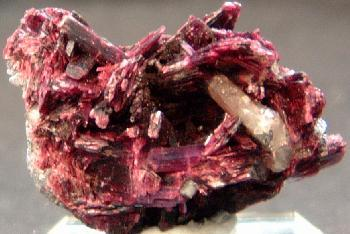erythrite: (3, 3, 346, 233)
